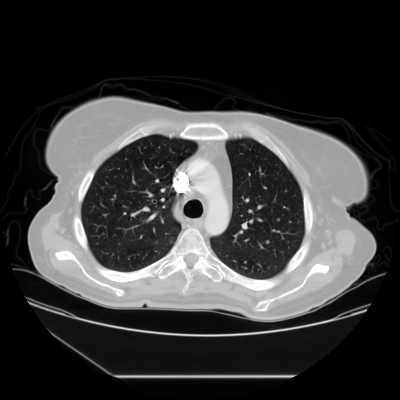nodule: (265, 240, 269, 244)
